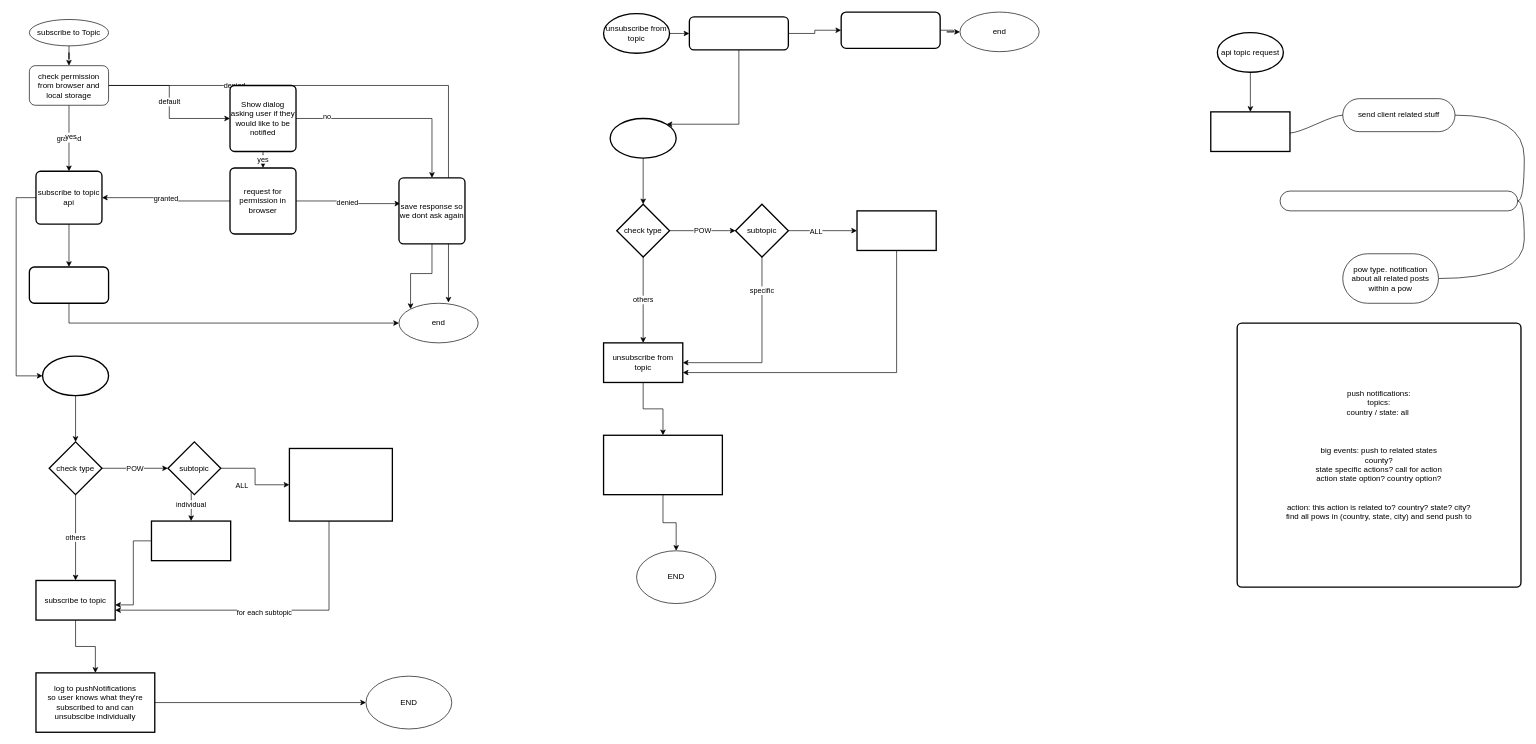
Some shapes in this 1536 by 744 pixel diagram are drawn without their labels. The box of each missing label's shape, as (x1, y1, x2, y2) in pixels:
client needs to be able to opt out of each type of notification: (1279, 190, 1518, 211)
individually subscribe based on options: (150, 520, 231, 561)
remove from local storage: (840, 11, 940, 49)
remove from pushNotifications: (603, 434, 723, 495)
save to local storage: (28, 266, 109, 304)
subscribe client: (1210, 111, 1290, 152)
subscribe on server: (42, 355, 109, 396)
TO BE DETERMINED prayer times events newsletter anything else?: (288, 447, 393, 521)
unsubscribe from each subtopic: (856, 210, 937, 251)
unsubscribe from server: (688, 16, 789, 50)
unsubscribe server: (609, 117, 676, 158)
